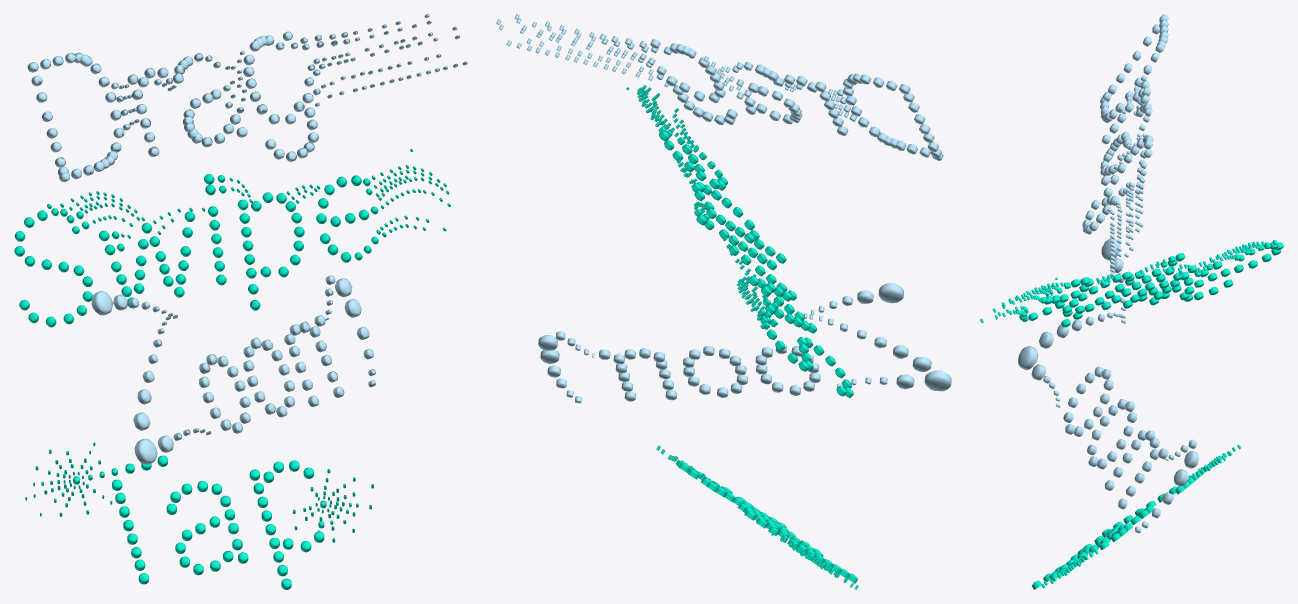
File: frictionAR.glb
3 renders of one model, left to right at view 1: azimuth 30°, elevation 25°; view 2: azimuth 150°, elevation 25°; view 3: azimuth 270°, elevation 25°, orthographic. The views are drawn at different scales.
Parts seen in each view (by area): view 1: Mesh_13.003, Mesh_99, Mesh_0.004, Mesh_0.002; view 2: Mesh_99, Mesh_13.003, Mesh_0.004, Mesh_0.002; view 3: Mesh_13.003, Mesh_0.004, Mesh_99, Mesh_0.002.
Part boxes in pixels (left/top/right/bottom): Mesh_13.003: left=14, top=149, right=450, bottom=327; Mesh_99: left=27, top=14, right=467, bottom=182; Mesh_0.004: left=91, top=275, right=375, bottom=464; Mesh_0.002: left=25, top=442, right=373, bottom=589; Mesh_99: left=496, top=14, right=943, bottom=160; Mesh_13.003: left=626, top=85, right=853, bottom=397; Mesh_0.004: left=538, top=283, right=951, bottom=403; Mesh_0.002: left=656, top=445, right=858, bottom=589; Mesh_13.003: left=980, top=240, right=1283, bottom=327; Mesh_0.004: left=1018, top=238, right=1199, bottom=533; Mesh_99: left=1082, top=14, right=1168, bottom=276; Mesh_0.002: left=1031, top=445, right=1241, bottom=589.
Size of the model in its own units: 20.99 by 25.54 by 14.34.
